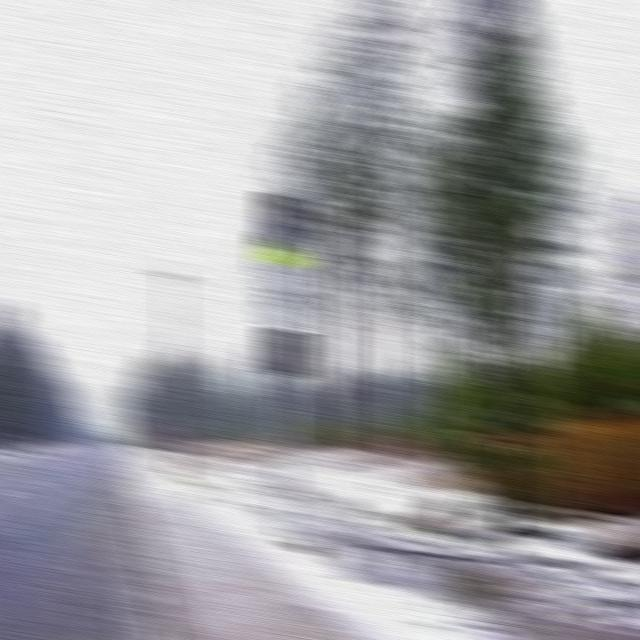speedLimit20: (257, 264, 311, 320)
